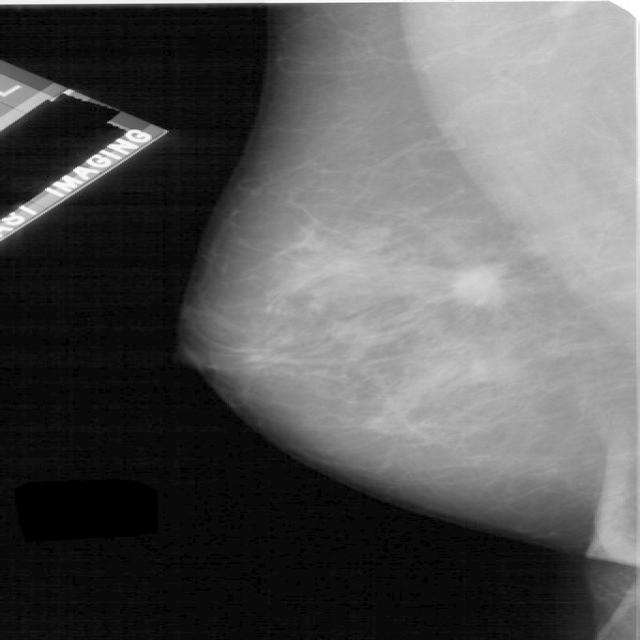tumour: (448, 262, 505, 310)
